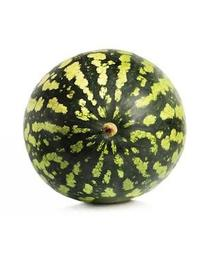watermelon: (22, 49, 187, 206)
